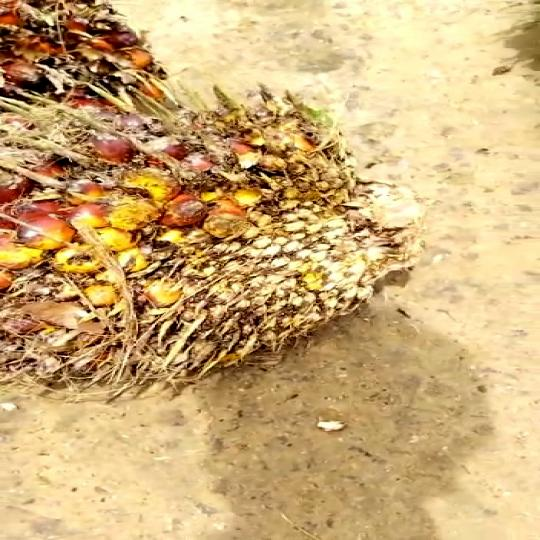masak: (0, 81, 434, 409)
